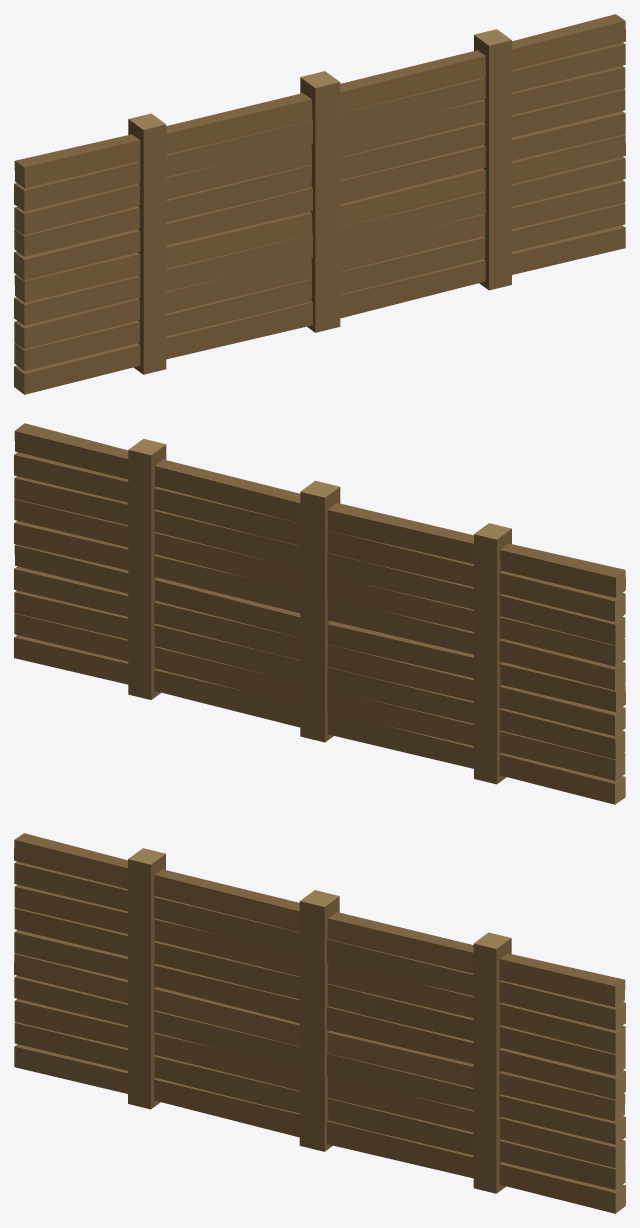
The model's file is Wall_FirstAge.glb.
3 renders of one model, top to bottom at view 1: azimuth 30°, elevation 25°; view 2: azimuth 150°, elevation 25°; view 3: azimuth 330°, elevation 25°, orthographic.
Visible parts, largest first — view 1: Wall_FirstAge; view 2: Wall_FirstAge; view 3: Wall_FirstAge.
Part boxes in pixels (x1,y1,x2,y2): Wall_FirstAge: (14,14,625,394); Wall_FirstAge: (14,423,625,804); Wall_FirstAge: (14,833,625,1213).
Bounding box in the file's own units: 1.35 × 0.526 × 0.0589.
